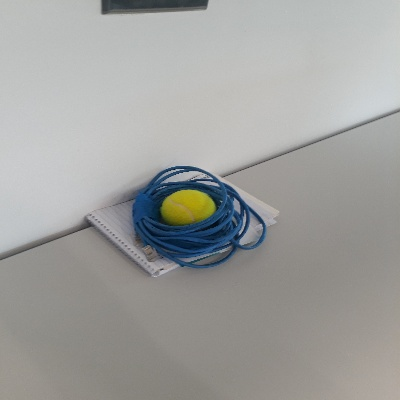Ball: (158, 189, 215, 226)
